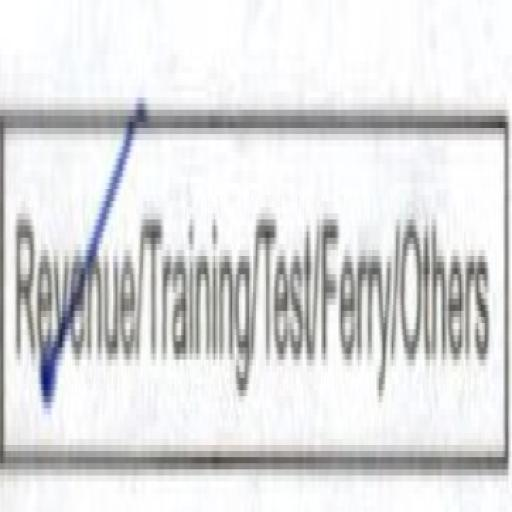check: (1, 34, 137, 499)
